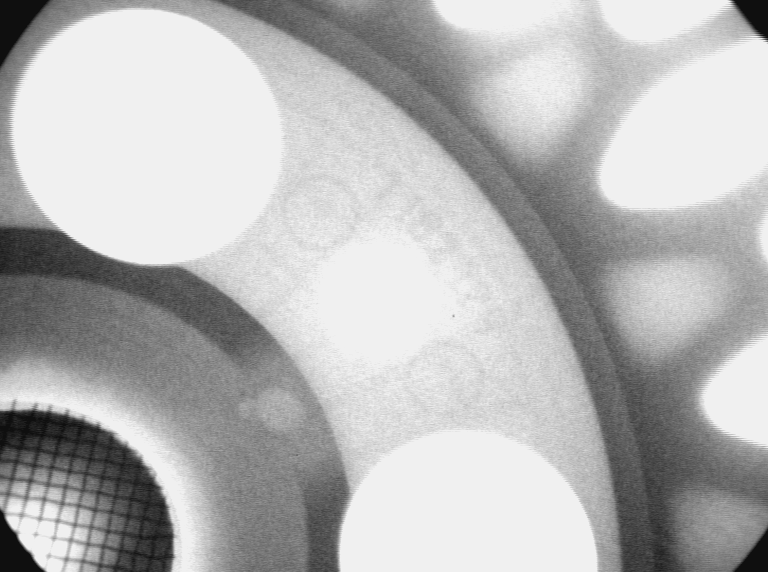defect: (235, 383, 311, 438)
